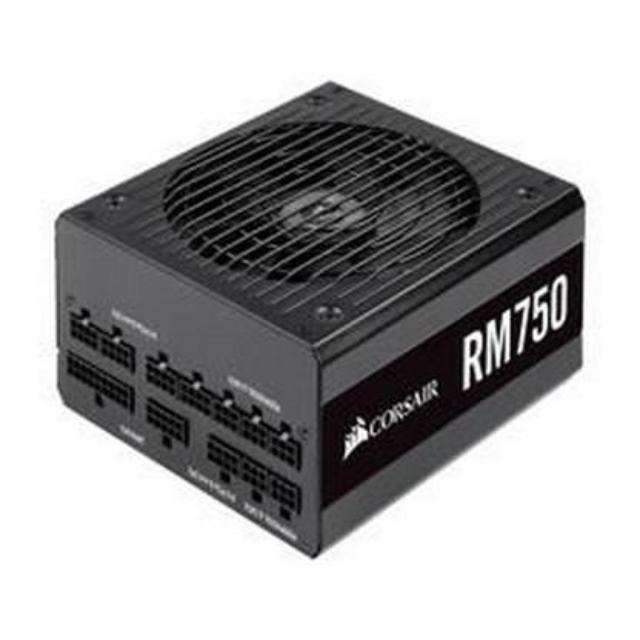PSU: (30, 69, 588, 577)
